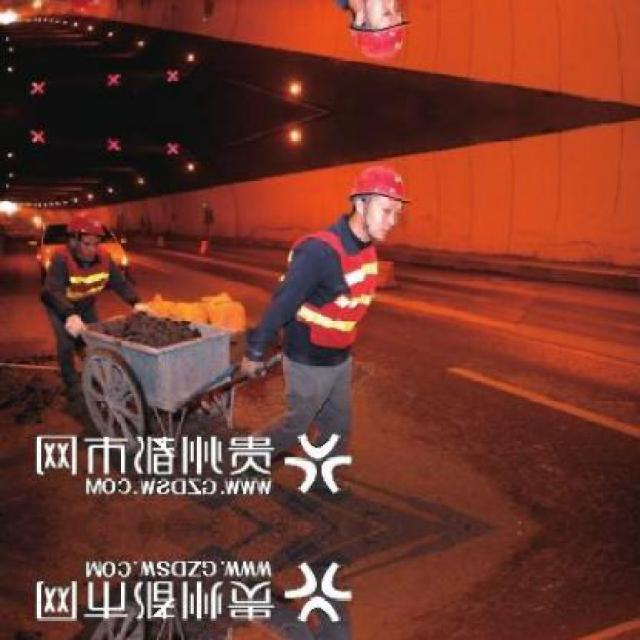Reflective-Jacket: (266, 226, 402, 369), (46, 244, 126, 330)
Safety-Helmet: (337, 162, 421, 212), (60, 209, 114, 245)
